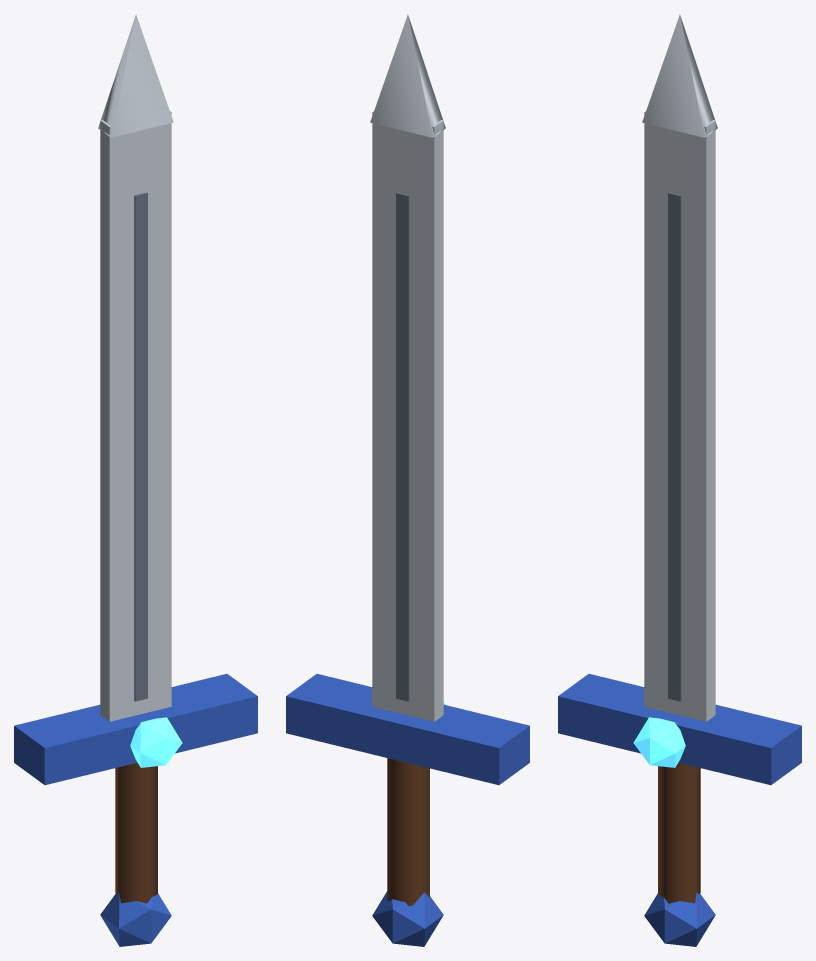
File: weapon_sword_t2.glb
3 renders of one model, left to right at view 1: azimuth 30°, elevation 25°; view 2: azimuth 150°, elevation 25°; view 3: azimuth 330°, elevation 25°, orthographic.
Parts seen in each view (by area): view 1: item_metal2, item_trim2, item_darkMetal2, item_leather2, item_gem2; view 2: item_metal2, item_trim2, item_darkMetal2, item_leather2; view 3: item_metal2, item_trim2, item_darkMetal2, item_leather2, item_gem2.
Part boxes in pixels (x1,y1,x2,y2): item_metal2: (98,14,173,721); item_trim2: (14,673,257,946); item_darkMetal2: (134,192,147,701); item_leather2: (115,762,157,903); item_gem2: (130,717,182,767); item_metal2: (370,14,445,721); item_trim2: (286,673,529,946); item_darkMetal2: (396,192,409,701); item_leather2: (387,758,429,906); item_metal2: (642,14,717,721); item_trim2: (558,673,801,946); item_darkMetal2: (668,192,681,701); item_leather2: (658,762,700,903); item_gem2: (633,717,685,767).
Size of the model in its own units: 0.24 by 0.9998 by 0.0888.
